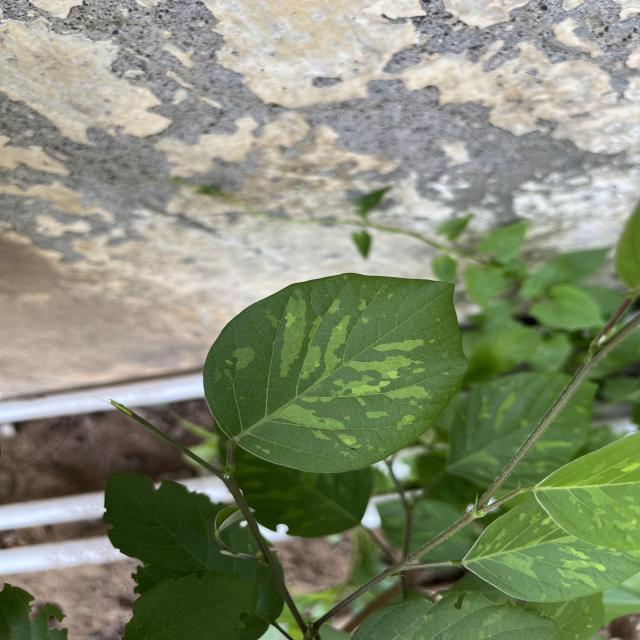Desmodium gangeticum: (197, 268, 474, 476)
